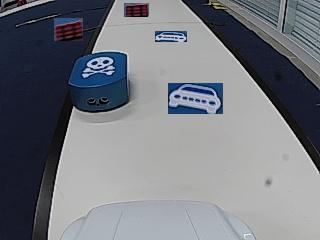danger: (82, 56, 113, 77)
